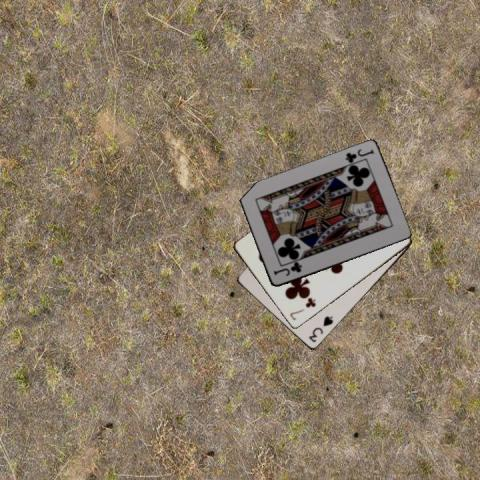3s: (306, 313, 335, 344)
7c: (287, 295, 317, 322)
Jc: (342, 146, 375, 165), (271, 260, 303, 278)
